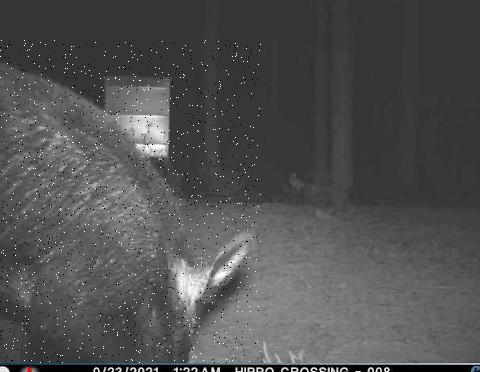Hog: (0, 40, 261, 364)
